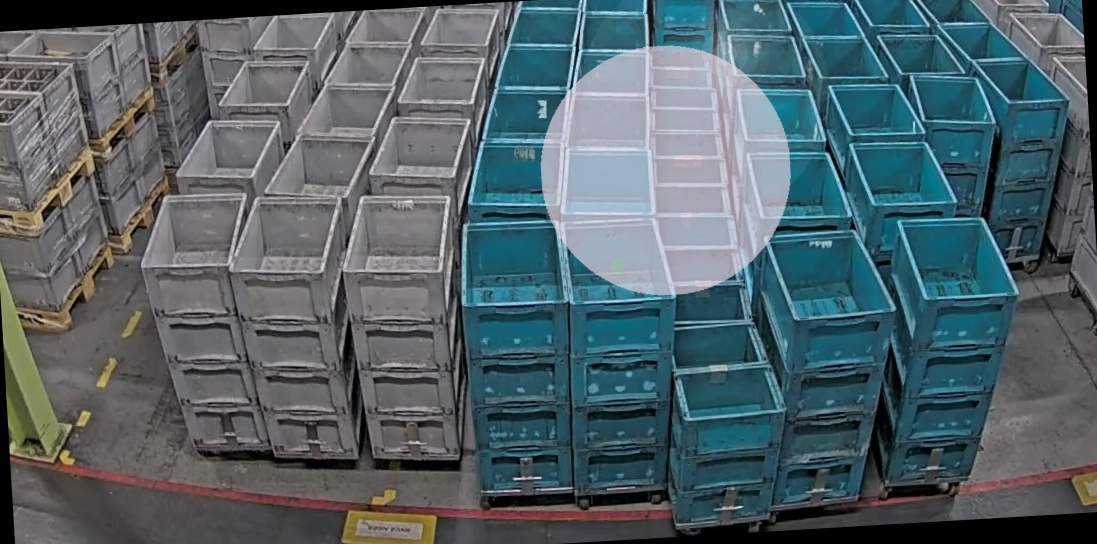4G: (223, 190, 367, 462), (337, 189, 471, 463), (134, 189, 271, 457)
B4: (861, 212, 1034, 483), (751, 226, 909, 507), (559, 214, 690, 493), (455, 216, 580, 496), (905, 69, 1004, 223)
B8: (658, 318, 794, 527)
